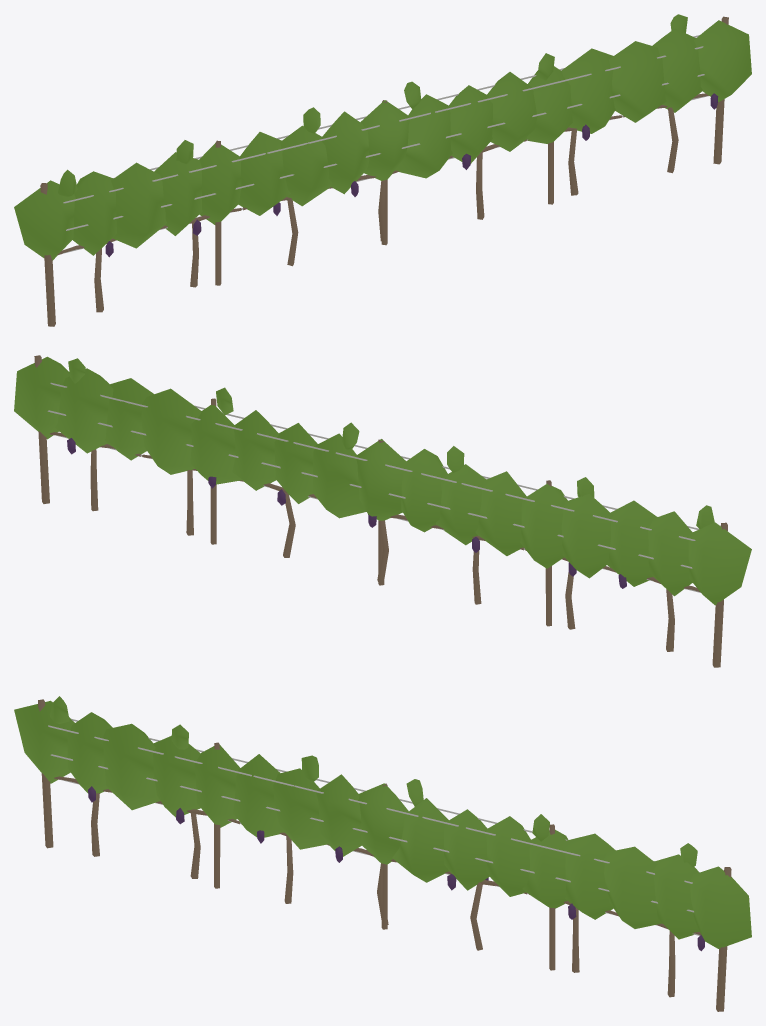
File: Blender_GrapeVine_1_Far.glb
3 views of the same model, one above another, from view 1: azimuth 30°, elevation 25°; view 2: azimuth 150°, elevation 25°; view 3: azimuth 330°, elevation 25° (orthographic).
Visible parts, largest first — view 1: Blender_GrapeVine_1_Far; view 2: Blender_GrapeVine_1_Far; view 3: Blender_GrapeVine_1_Far.
Part boxes in pixels (x1=…): Blender_GrapeVine_1_Far: x1=14, y1=14, x2=751, y2=326; Blender_GrapeVine_1_Far: x1=14, y1=355, x2=751, y2=667; Blender_GrapeVine_1_Far: x1=14, y1=696, x2=751, y2=1011.
Size of the model in its own units: 11.05 by 2.22 by 0.7661.
